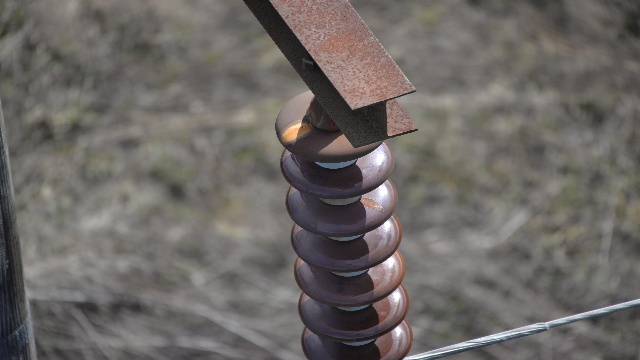insulator_unspecified: (275, 88, 416, 357)
pollution_flashover_local: (278, 118, 310, 147), (363, 198, 384, 215)
